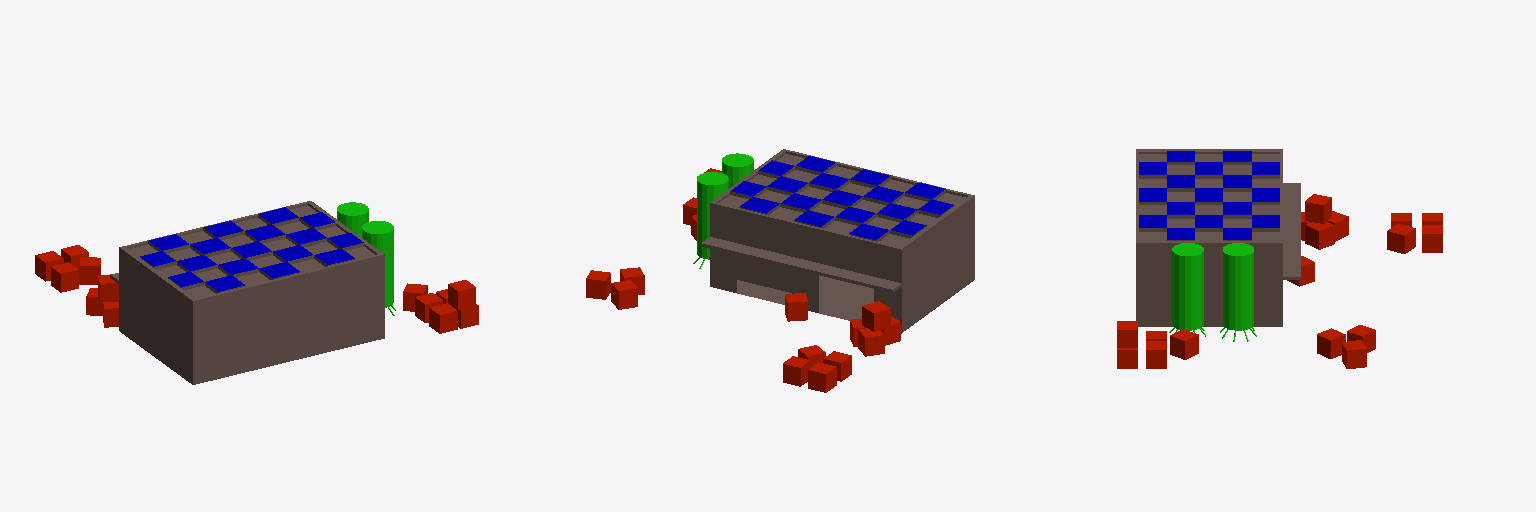
Rendered from Factory.obj.
3 renders of one model, left to right at view 1: azimuth 30°, elevation 25°; view 2: azimuth 150°, elevation 25°; view 3: azimuth 270°, elevation 25°, orthographic.
Parts seen in each view (by area): view 1: Cylinder.001_Cylinder.012; view 2: Cylinder.001_Cylinder.012; view 3: Cylinder.001_Cylinder.012.
Boxes of the visible parts, x1=… form: Cylinder.001_Cylinder.012: x1=35, y1=201, x2=478, y2=384; Cylinder.001_Cylinder.012: x1=586, y1=149, x2=974, y2=392; Cylinder.001_Cylinder.012: x1=1117, y1=149, x2=1442, y2=368.
Size of the model in its own units: 0.9226 by 0.2682 by 0.9073.